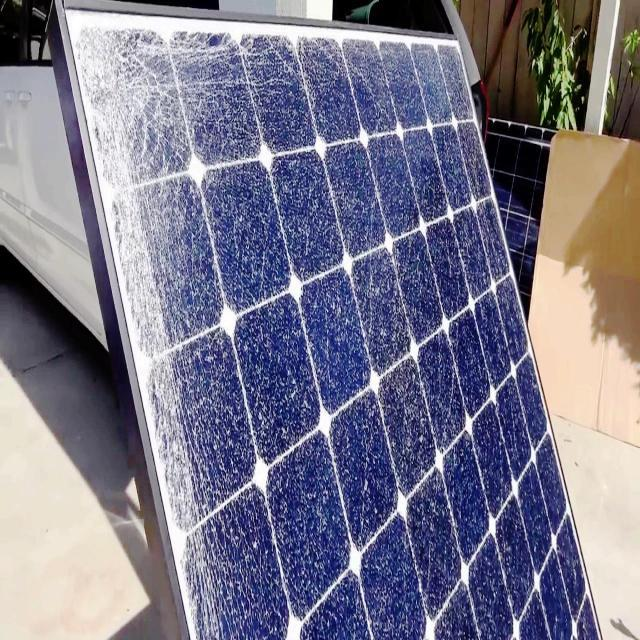faulty: (61, 7, 604, 640)
